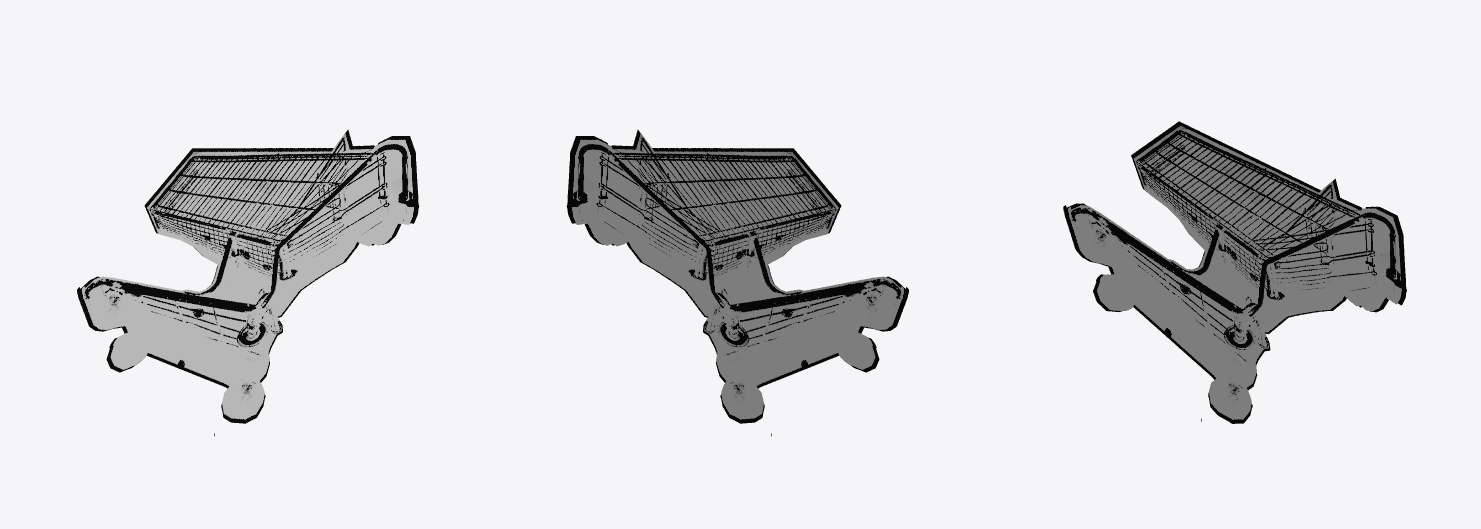
File: Miniscene8_Shopping Cart Icon.fbx
3 views of the same model, side by side, from view 1: azimuth 30°, elevation 25°; view 2: azimuth 150°, elevation 25°; view 3: azimuth 330°, elevation 25° (orthographic).
Parts seen in each view (by area): view 1: Model; view 2: Model; view 3: Model.
Part boxes in pixels (x1,y1,x2,y2): Model: (77,130,419,436); Model: (566,130,908,436); Model: (1063,121,1406,423).
Size of the model in its own units: 104 by 104 by 0.
